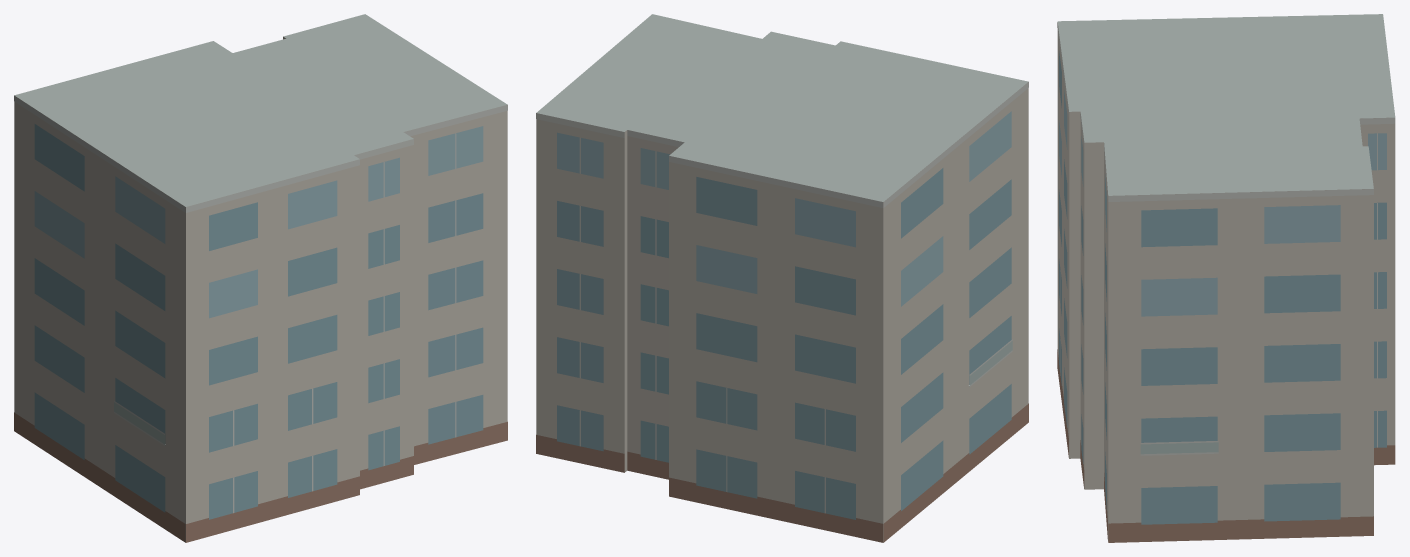
Rendered from survey-upis-32737194.glb.
The picture shows the model from 3 angles, left to right: view 1: azimuth 30°, elevation 25°; view 2: azimuth 150°, elevation 25°; view 3: azimuth 270°, elevation 25°; orthographic projection. The views are drawn at different scales.
Visible parts, largest first — view 1: survey-upis-32737194.tmp; view 2: survey-upis-32737194.tmp; view 3: survey-upis-32737194.tmp.
Boxes of the visible parts, box(x1,y1,x2,y2) form: survey-upis-32737194.tmp: box(14, 14, 507, 542); survey-upis-32737194.tmp: box(536, 14, 1028, 542); survey-upis-32737194.tmp: box(1057, 14, 1395, 542).
Bounding box in the file's own units: 15.3 × 13.6 × 12.01.
